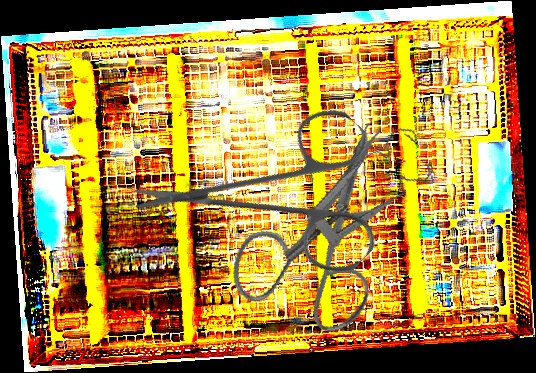Iris Scissors: (128, 44, 428, 344), (204, 116, 426, 351)
Speculum: (259, 122, 447, 263)
